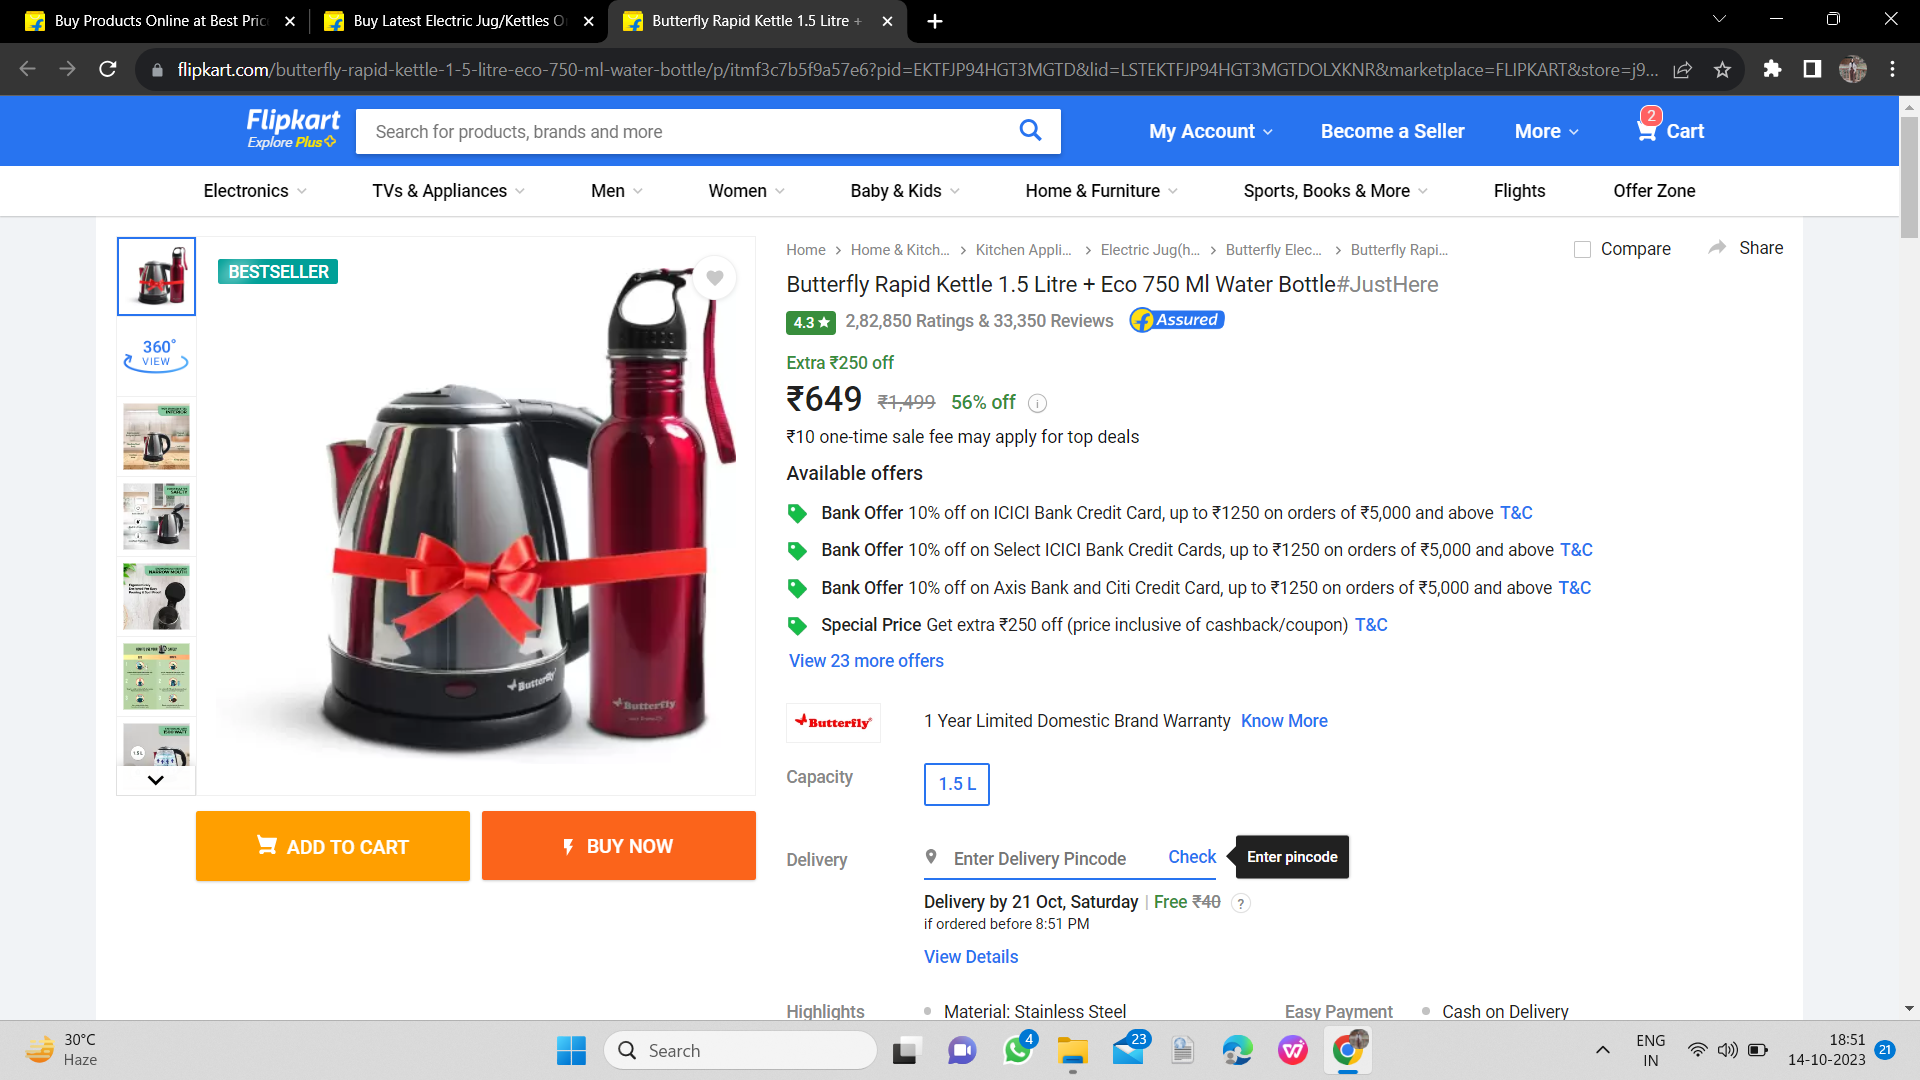Image: (200, 241, 750, 781), (351, 96, 1079, 156)
Paragraph: (774, 492, 1611, 671), (774, 837, 1381, 973), (179, 804, 760, 891), (766, 343, 1176, 451), (1135, 104, 1706, 160), (779, 709, 1337, 746), (779, 269, 1448, 295), (773, 306, 1236, 336), (779, 764, 998, 811), (771, 996, 1142, 1019), (1278, 990, 1576, 1019), (767, 465, 939, 485)
